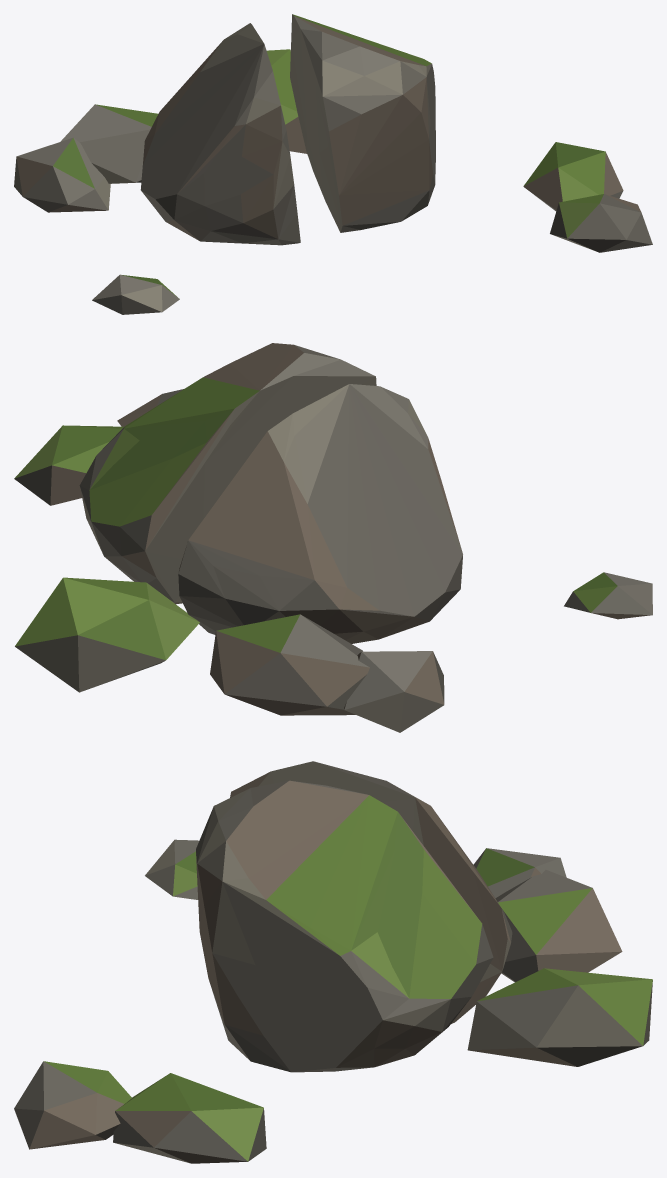
The model's file is rubble_split.glb.
The picture shows the model from 3 angles, top to bottom: view 1: azimuth 30°, elevation 25°; view 2: azimuth 150°, elevation 25°; view 3: azimuth 270°, elevation 25°; orthographic projection. The views are drawn at different scales.
Visible parts, largest first — view 1: orchard_rubble_split_Stone; view 2: orchard_rubble_split_Stone; view 3: orchard_rubble_split_Stone.
Boxes of the visible parts, bbox=[...] form: orchard_rubble_split_Stone: bbox=[14, 14, 652, 314]; orchard_rubble_split_Stone: bbox=[14, 343, 652, 732]; orchard_rubble_split_Stone: bbox=[14, 761, 652, 1163].
Bounding box in the file's own units: 2.04 × 0.7572 × 1.75.
